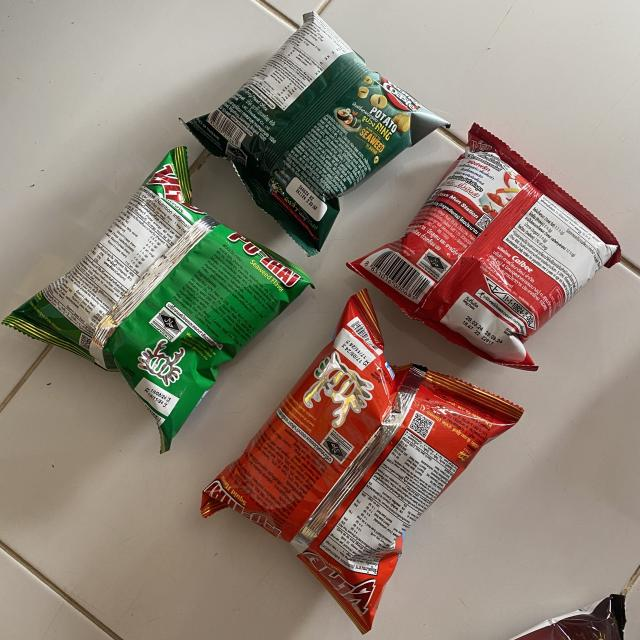plastik: (201, 290, 524, 634), (2, 146, 312, 452), (348, 124, 620, 370), (186, 12, 449, 255)
